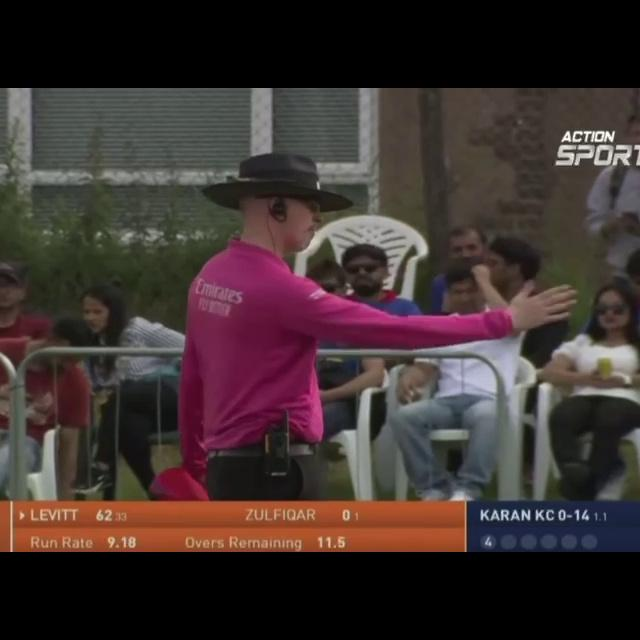umpire: (125, 98, 597, 507)
